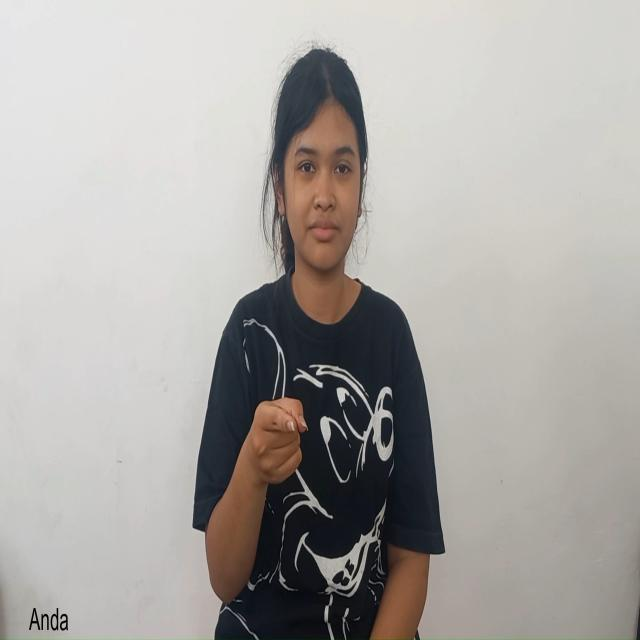Anda -BISINDO-: (211, 322, 348, 560)
